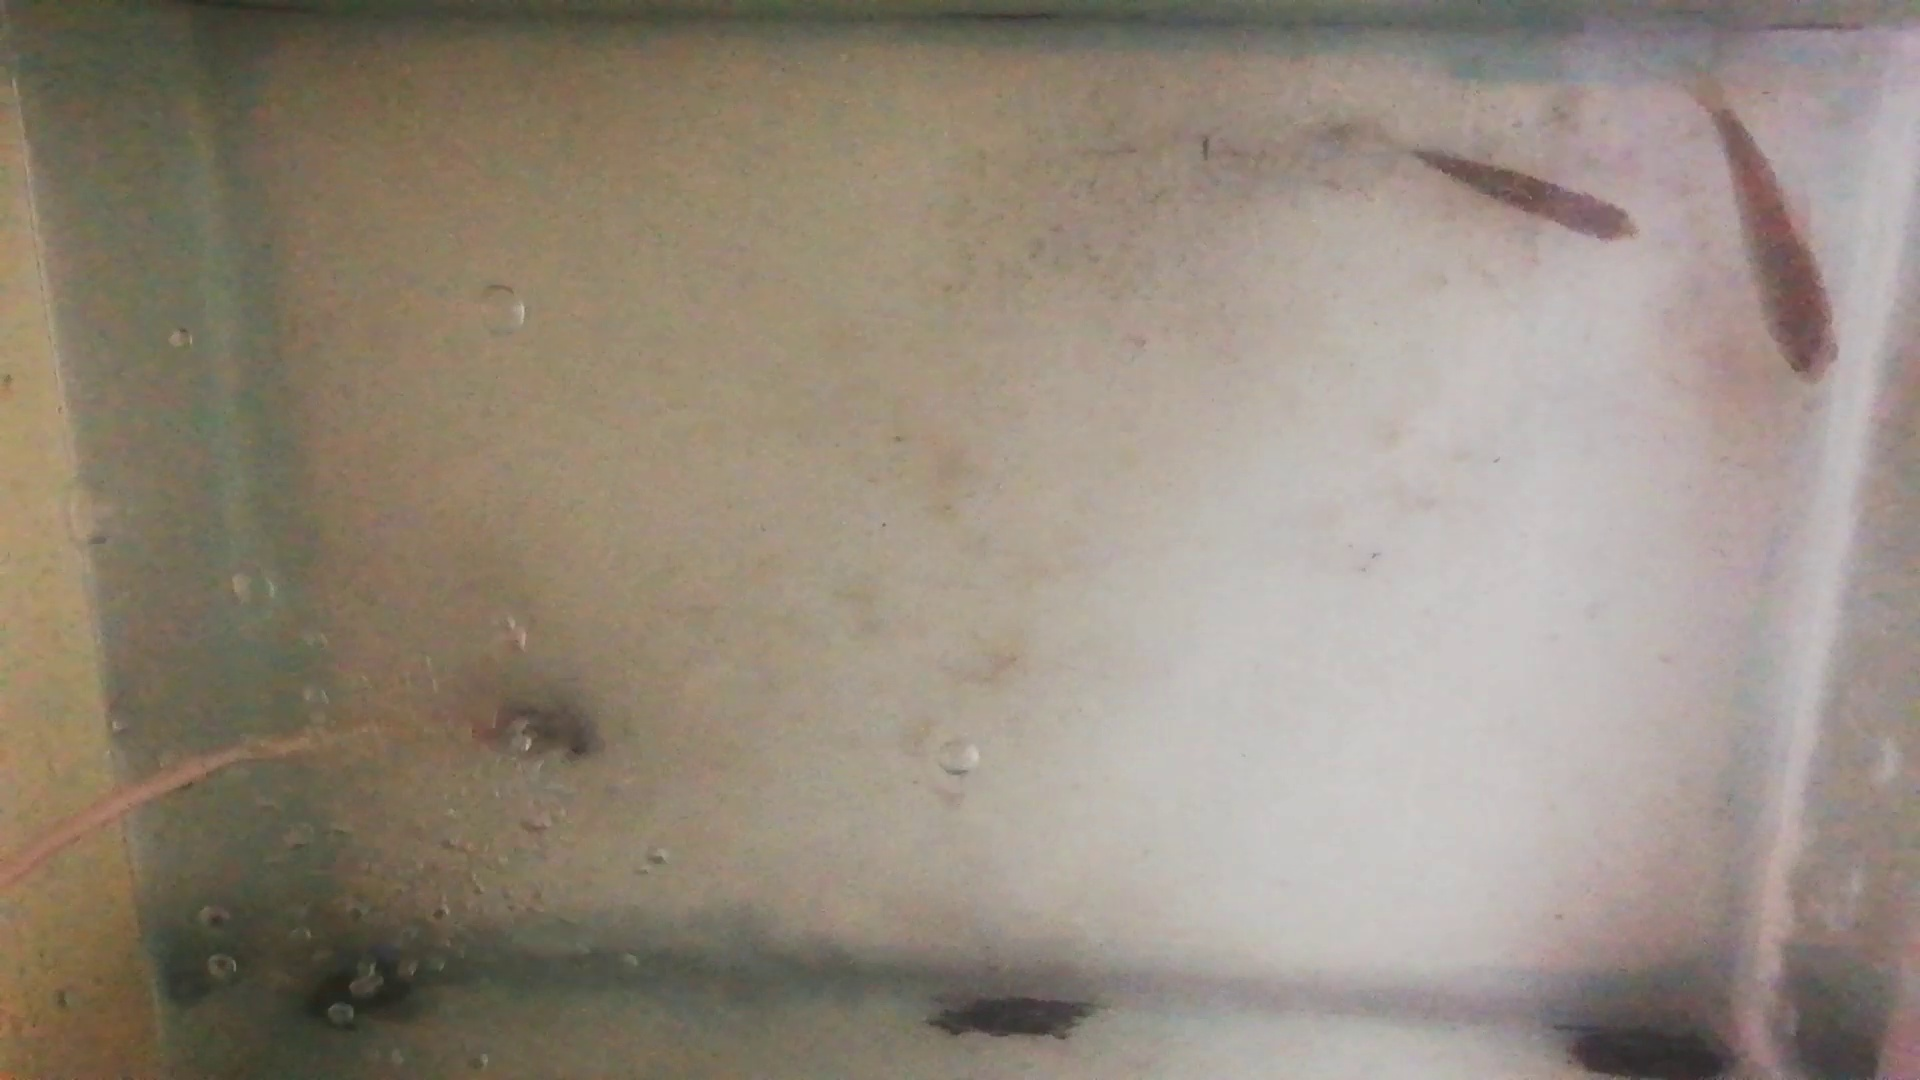fish: (1713, 113, 1838, 389), (1400, 146, 1636, 244)
